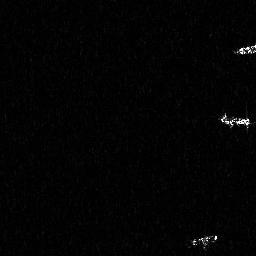ship: (217, 111, 253, 132), (186, 232, 219, 254), (232, 42, 256, 58)
